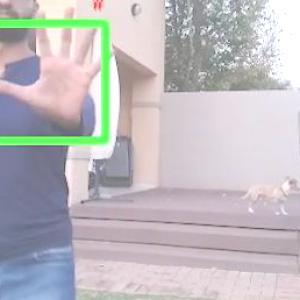follow_hand: (1, 0, 128, 125)
